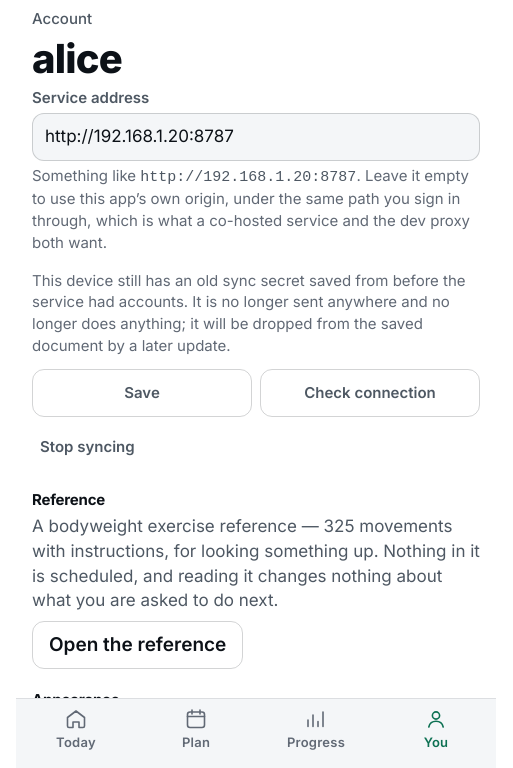
the connection check › reports being in sync, and names nobody in the URL
(page scrolled)
Click the button "Check connection": (370, 393) [260,369,480,417]
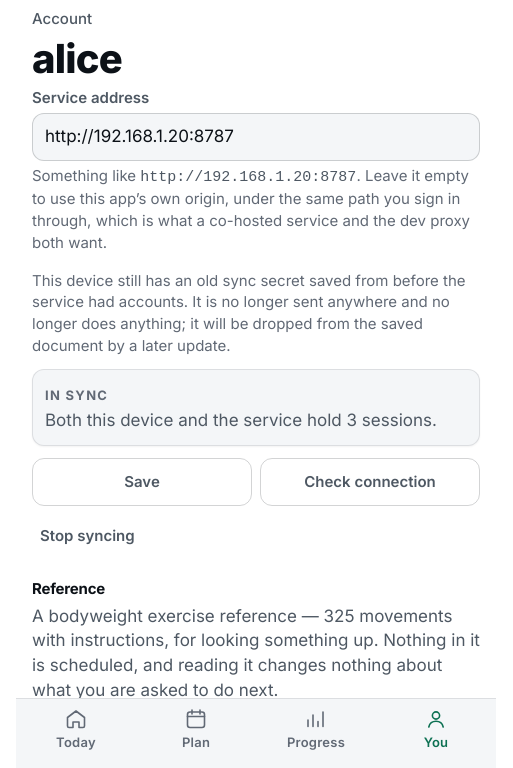
Expected: the element with test id "sync-status" shows "In sync", [45,387,108,403]
Expected: the element with test id "sync-status" shows "3 sessions", [45,410,437,430]
